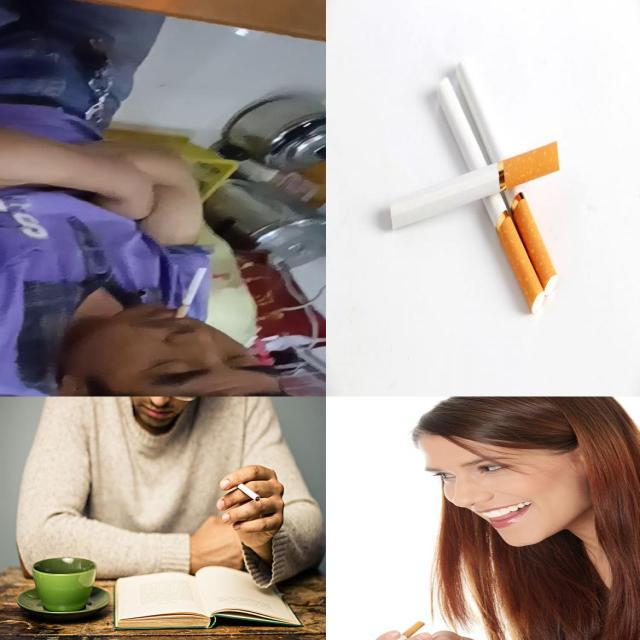smoking: (437, 76, 545, 314), (456, 60, 558, 298), (389, 140, 561, 232), (175, 268, 209, 318), (360, 618, 429, 640), (233, 478, 261, 502)
